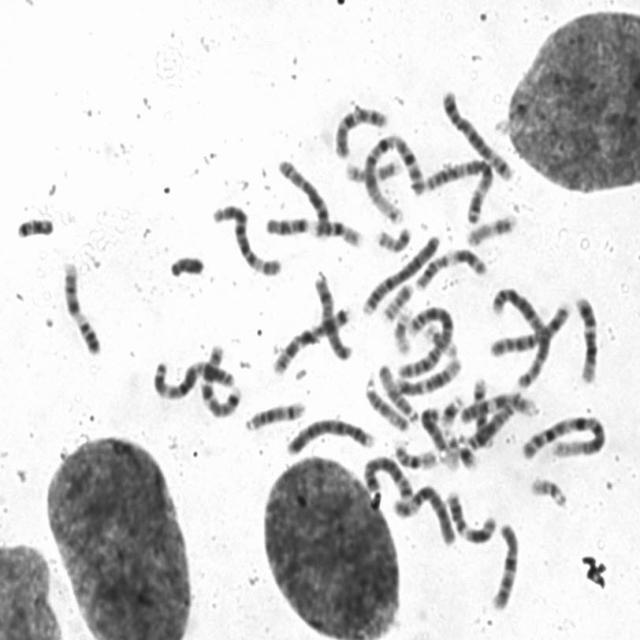A1: (360, 125, 428, 224), (519, 408, 610, 462)
A2: (488, 279, 554, 390), (394, 298, 457, 381)
A3: (421, 150, 496, 224), (150, 353, 238, 400)
B4: (359, 227, 443, 317), (284, 411, 378, 456)
B5: (438, 82, 517, 182), (359, 449, 417, 502)
C10: (330, 98, 393, 160), (488, 516, 523, 612)
C11: (411, 241, 491, 292), (443, 484, 500, 547)
C12: (393, 351, 465, 396), (571, 289, 603, 385)
C6: (209, 197, 284, 278), (390, 478, 460, 548)
C7: (268, 300, 354, 376), (196, 337, 245, 420)
C8: (486, 296, 575, 358), (274, 152, 334, 232)
C9: (59, 254, 105, 356), (455, 386, 540, 424)
D13: (464, 394, 520, 451), (417, 400, 450, 452)
D14: (241, 393, 309, 432), (469, 371, 497, 450)
D15: (361, 371, 413, 433), (375, 357, 422, 424)
E16: (308, 212, 366, 248), (390, 434, 441, 470)
E17: (463, 208, 521, 248), (342, 155, 404, 184)
E18: (262, 209, 314, 237), (12, 209, 58, 240)
F19: (390, 302, 414, 356), (444, 429, 458, 473)
F20: (379, 276, 417, 322), (372, 220, 415, 253)
G21: (436, 388, 466, 428), (454, 436, 480, 471)
G22: (526, 470, 570, 510), (421, 320, 459, 358)
X: (310, 266, 356, 362)
Y: (166, 247, 208, 279)
